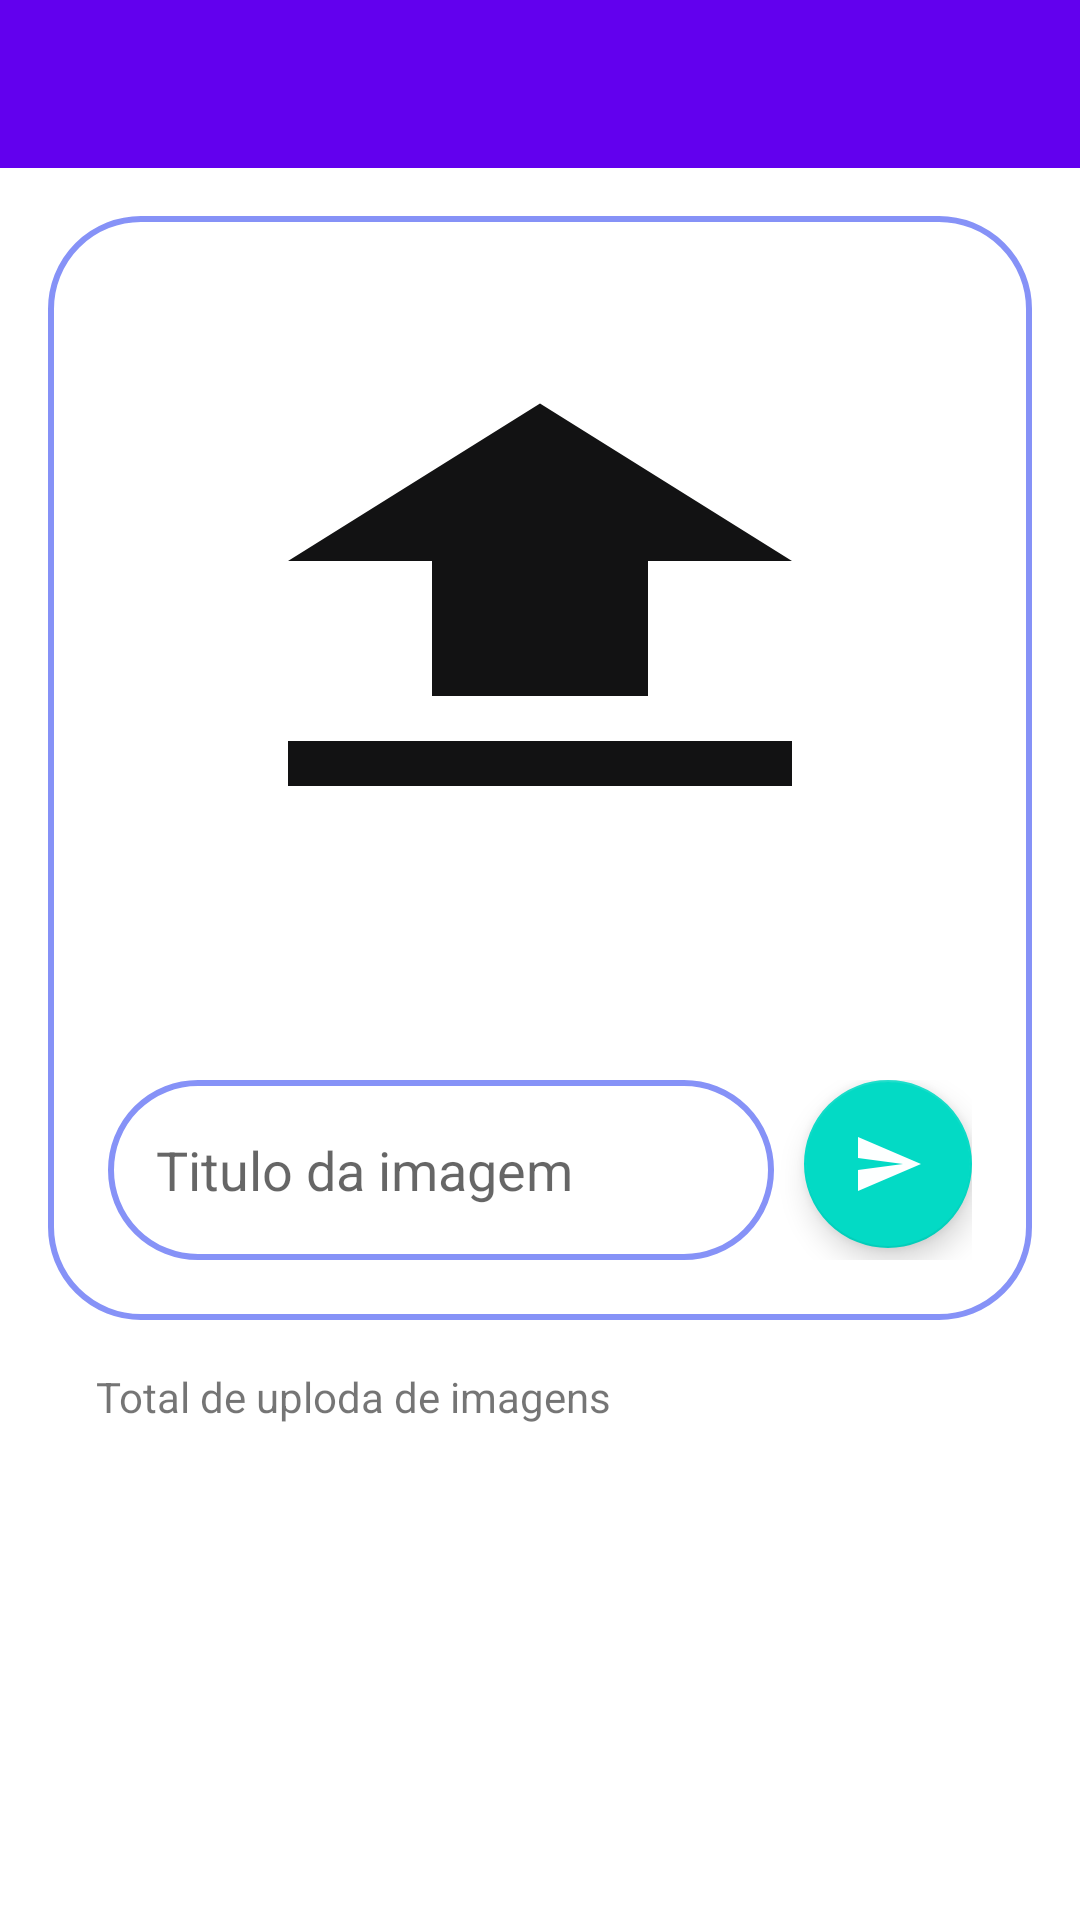

Icon bounding boxes for this 1080px x 1920px phone screenshot, format (x1, y1, x2, y2):
botao enviar imagem: (804, 1080, 972, 1248)
